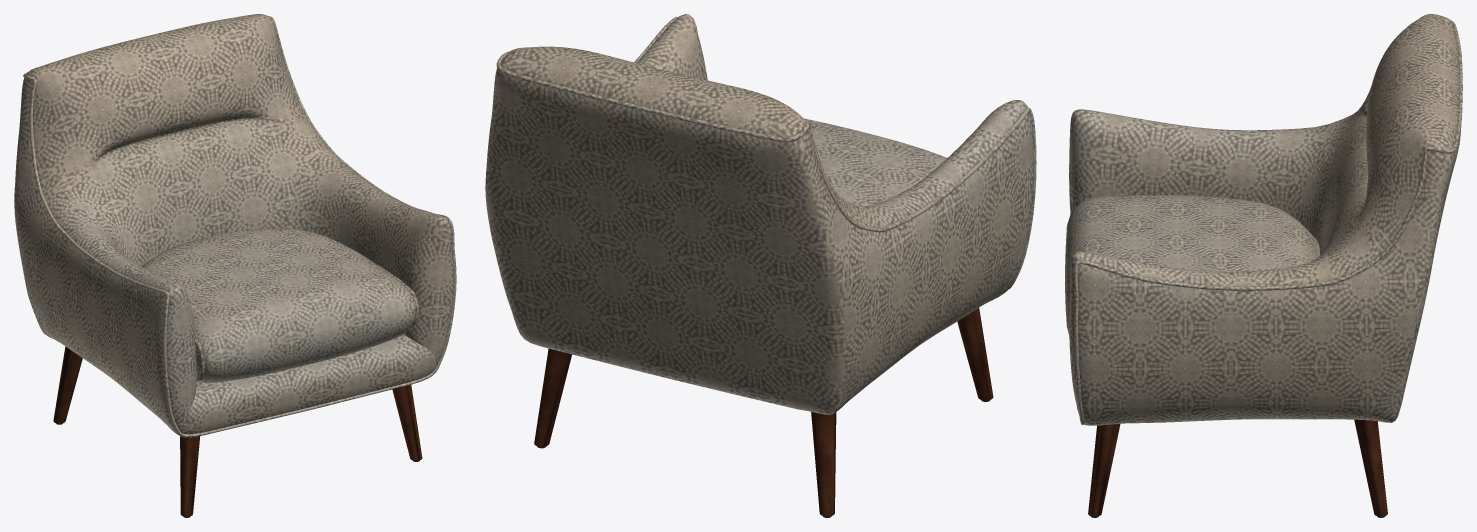
3 renders of one model, left to right at view 1: azimuth 30°, elevation 25°; view 2: azimuth 150°, elevation 25°; view 3: azimuth 270°, elevation 25°, orthographic. The views are drawn at different scales.
Visible parts, largest first — view 1: RootNode; view 2: RootNode; view 3: RootNode.
Boxes of the visible parts, <box> form: RootNode: <box>14,14,456,517</box>; RootNode: <box>485,14,1036,517</box>; RootNode: <box>1065,14,1462,517</box>.
Size of the model in its own units: 0.7618 by 0.838 by 0.787.
Materials: 1 (1 with a texture image).
